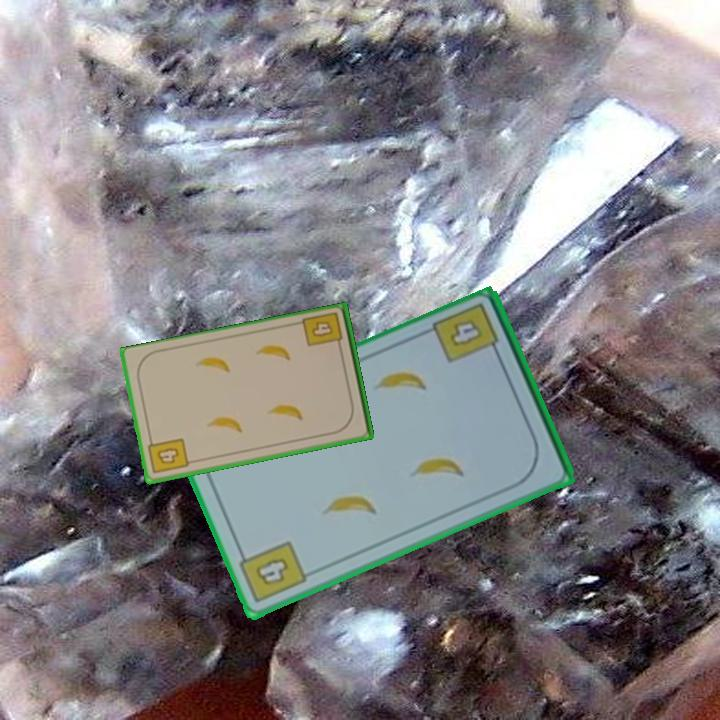4b: (234, 537, 310, 606), (429, 299, 504, 367), (299, 309, 346, 353), (145, 434, 191, 477)
